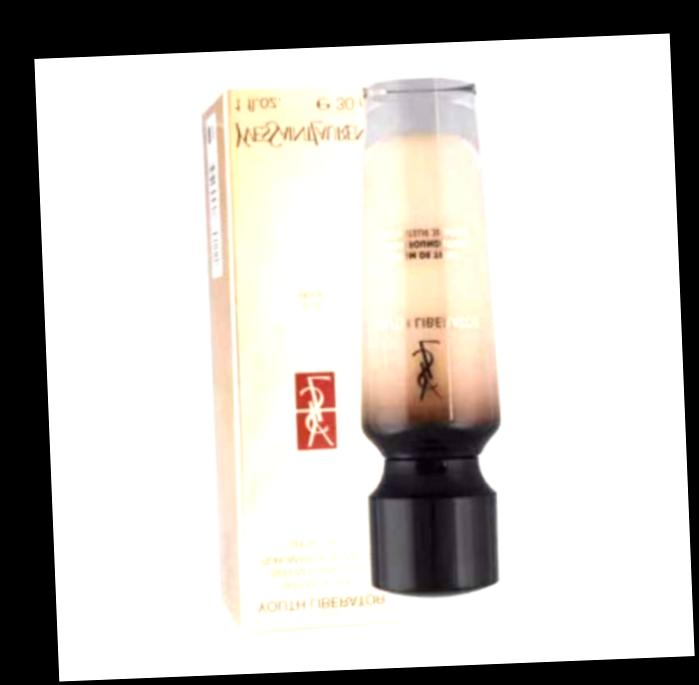cosmetic: (346, 76, 508, 590)
